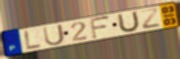2: (69, 21, 88, 42)
F: (89, 15, 112, 40)
L: (23, 29, 42, 50)
U: (42, 23, 66, 47), (117, 10, 141, 34)
Z: (139, 8, 163, 30)
